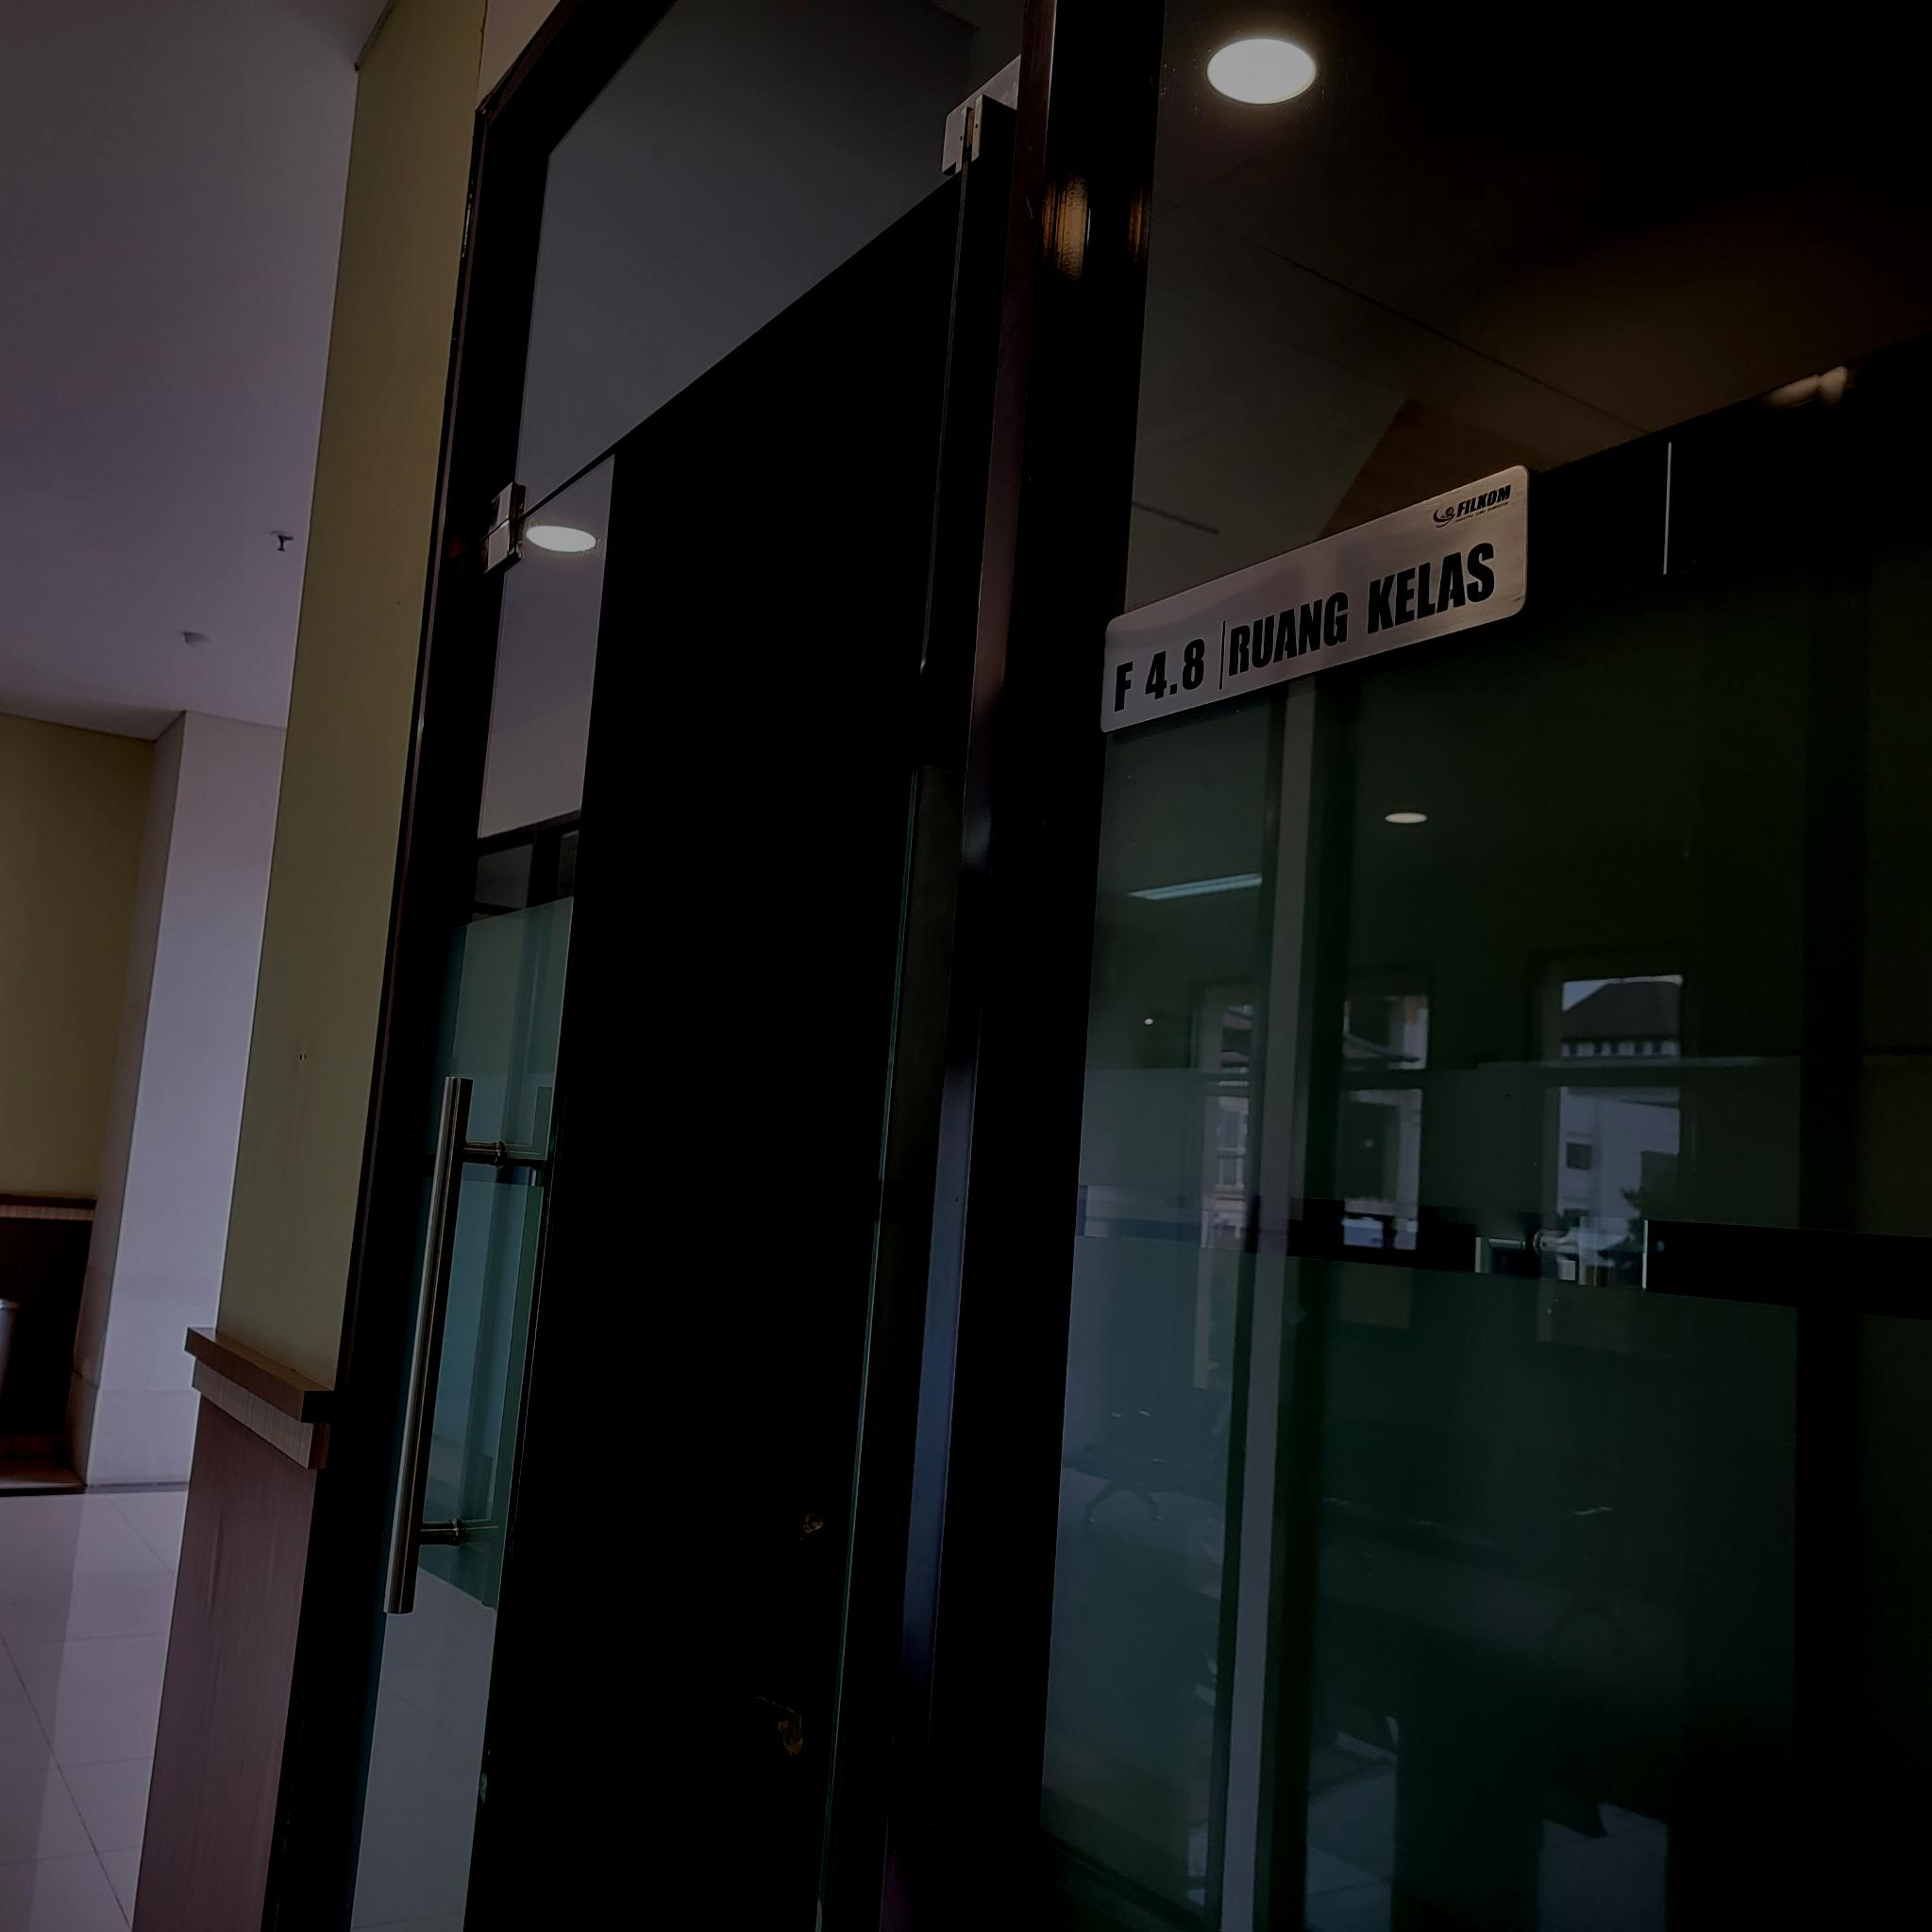plate: (1095, 464, 1534, 740)
